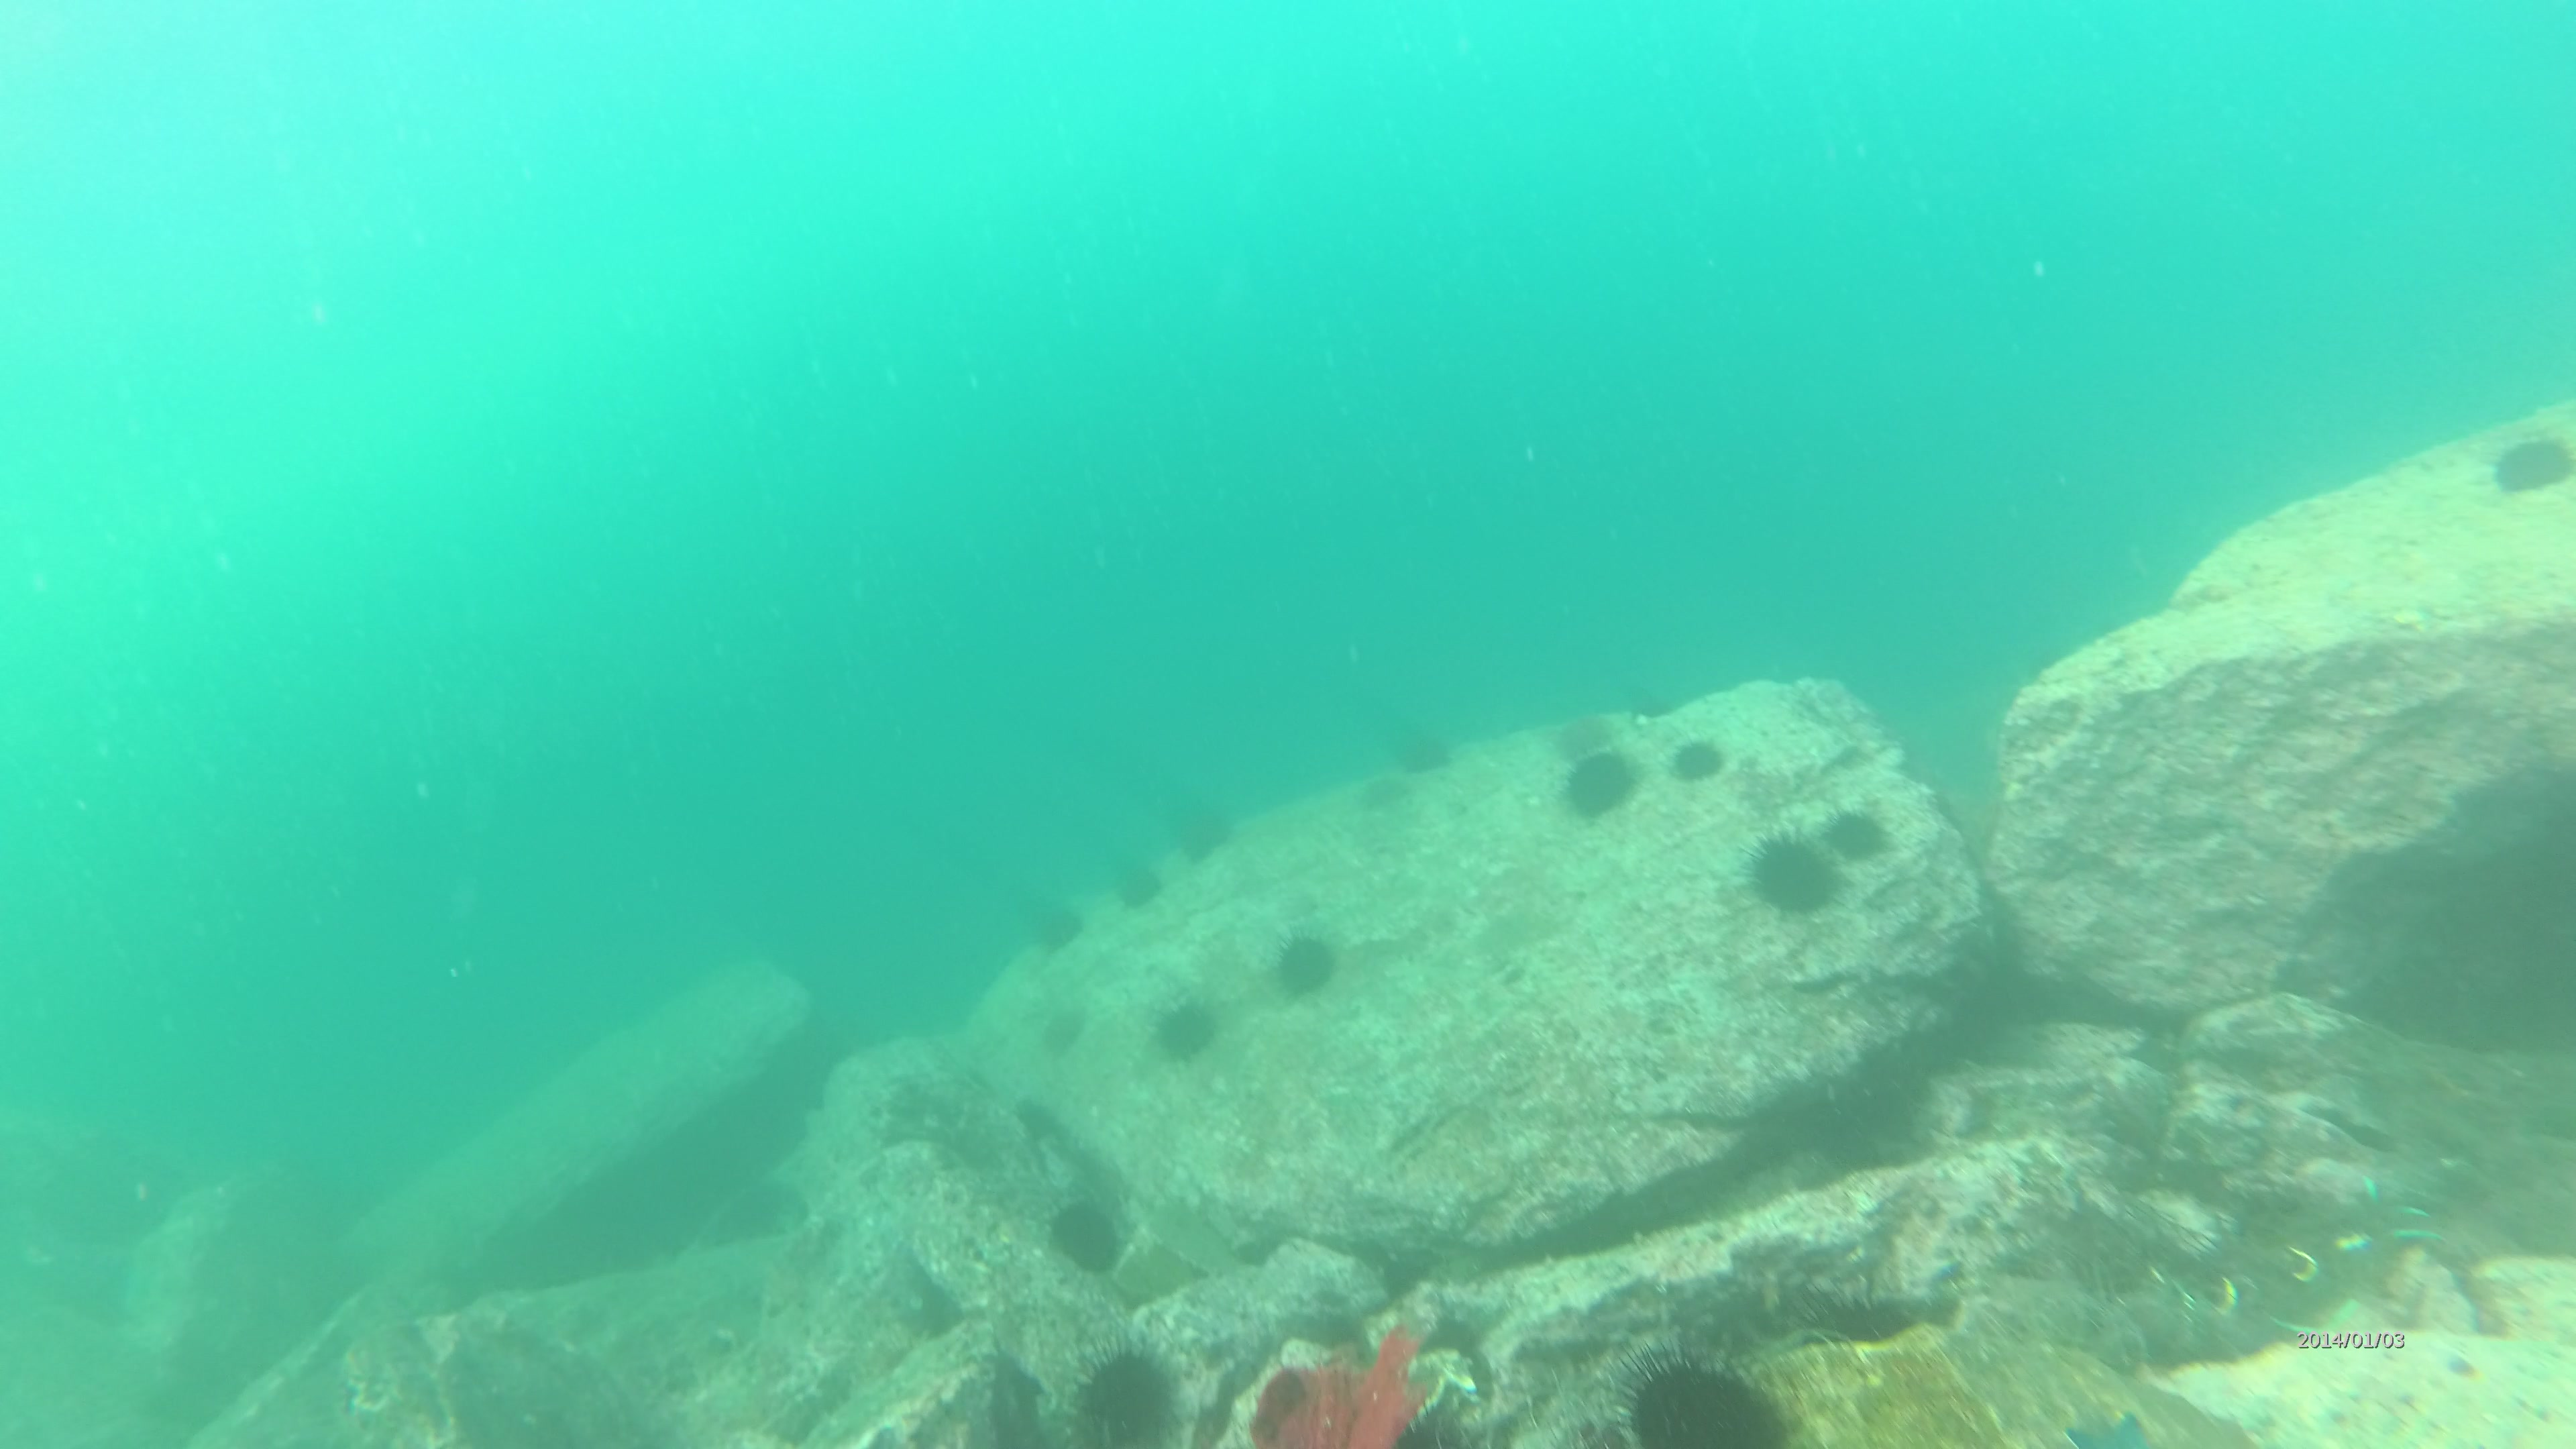echinus: (1603, 1338, 1780, 1449), (1063, 1343, 1192, 1449), (1743, 826, 1844, 918), (1044, 1194, 1136, 1276), (1562, 750, 1642, 826), (1269, 925, 1341, 1008), (2489, 426, 2572, 494), (1141, 993, 1221, 1060), (1162, 789, 1224, 862), (1023, 893, 1092, 955), (1104, 855, 1169, 918), (1828, 803, 1893, 862)
